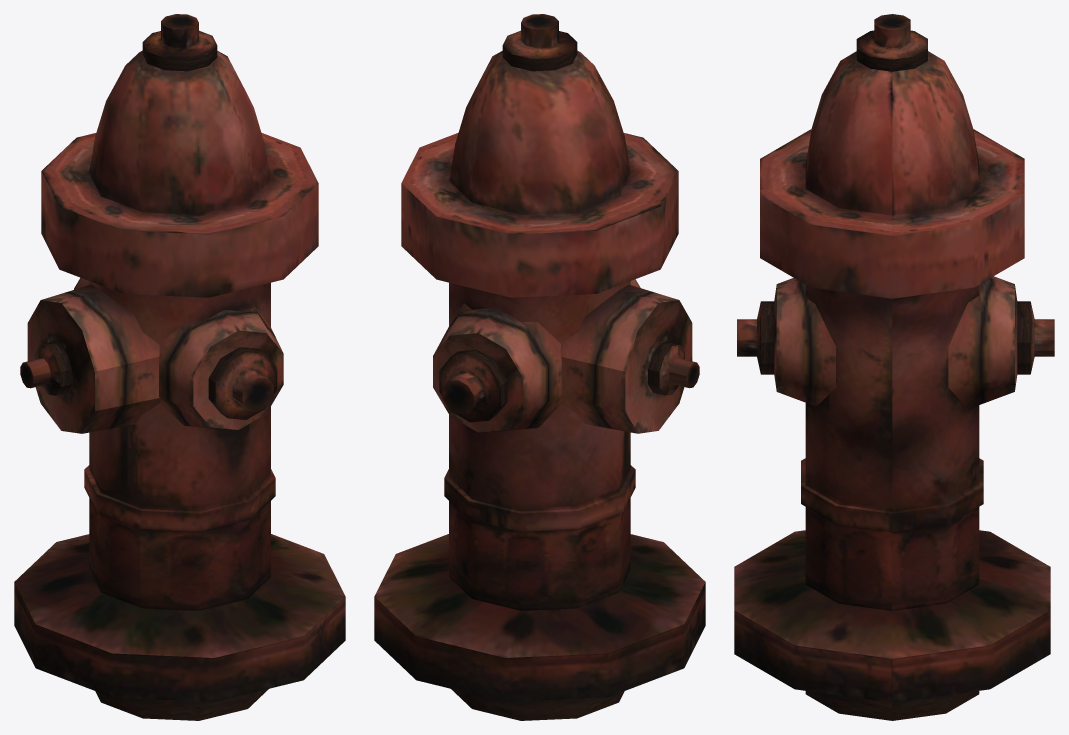
Rendered from UDC_FireHidrant.obj.
3 renders of one model, left to right at view 1: azimuth 30°, elevation 25°; view 2: azimuth 150°, elevation 25°; view 3: azimuth 270°, elevation 25°, orthographic.
Parts seen in each view (by area): view 1: UDC_FireHidrant; view 2: UDC_FireHidrant; view 3: UDC_FireHidrant.
Part boxes in pixels (bbox=[...]): UDC_FireHidrant: bbox=[14, 14, 345, 720]; UDC_FireHidrant: bbox=[374, 14, 705, 720]; UDC_FireHidrant: bbox=[734, 14, 1054, 720].
Bounding box in the file's own units: 0.1568 × 0.3332 × 0.1465.
1 material, 1 textured.
